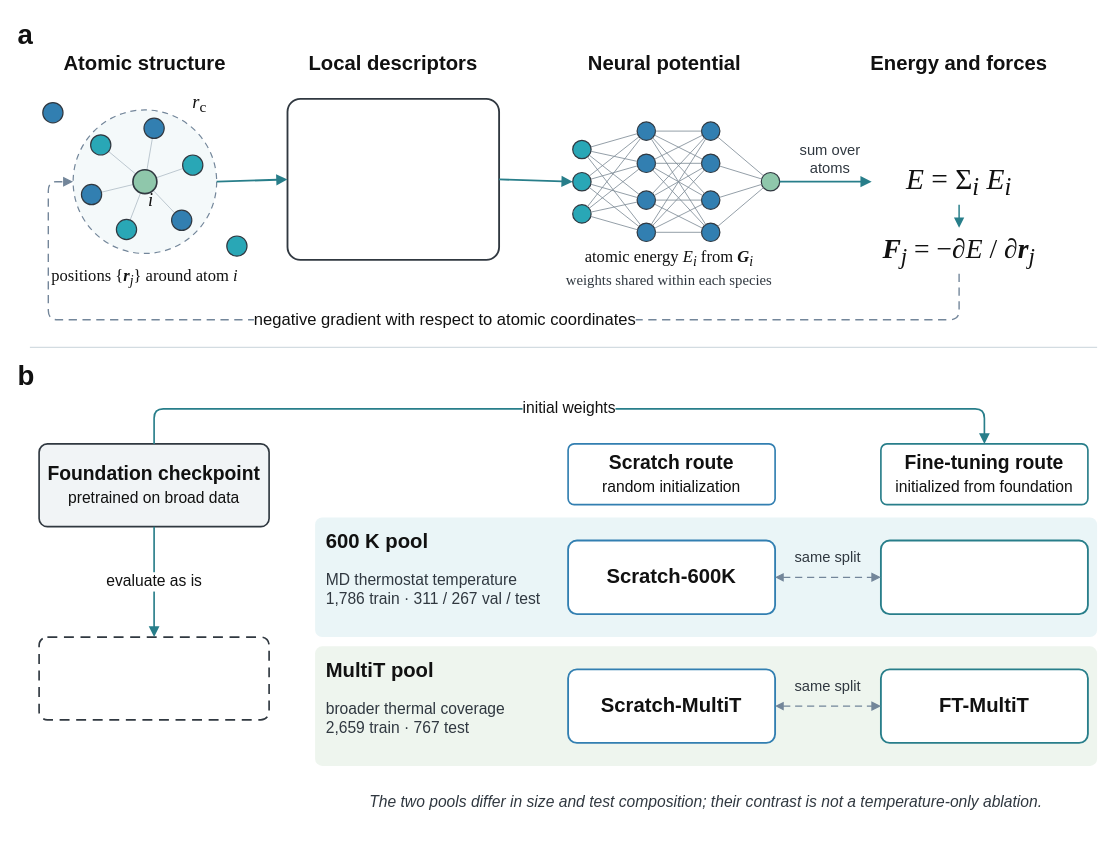
Some shapes in this 1114 by 841 pixel diagram are drawn without their labels. Here are the shapes that lost their labels. From the top down, the centre of each, then its label:
At point 393,179: "G i = G ({ r ij : r ij < r c }) one invariant feature vector per atom i".
At point 984,577: "FT-600K".
At point 153,678: "Zero-shot baselines no target-data update".
